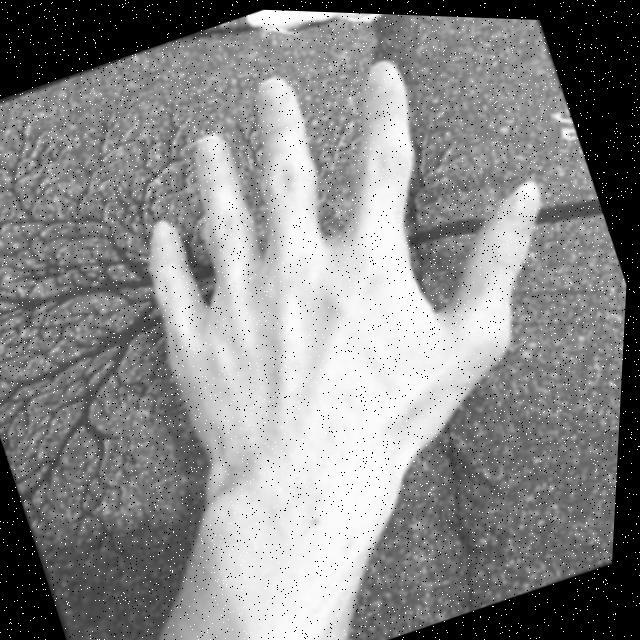no-gloves: (71, 3, 617, 514)
